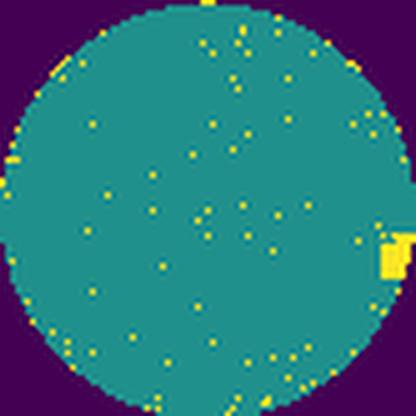Edge-Loc: (373, 229, 416, 284)
